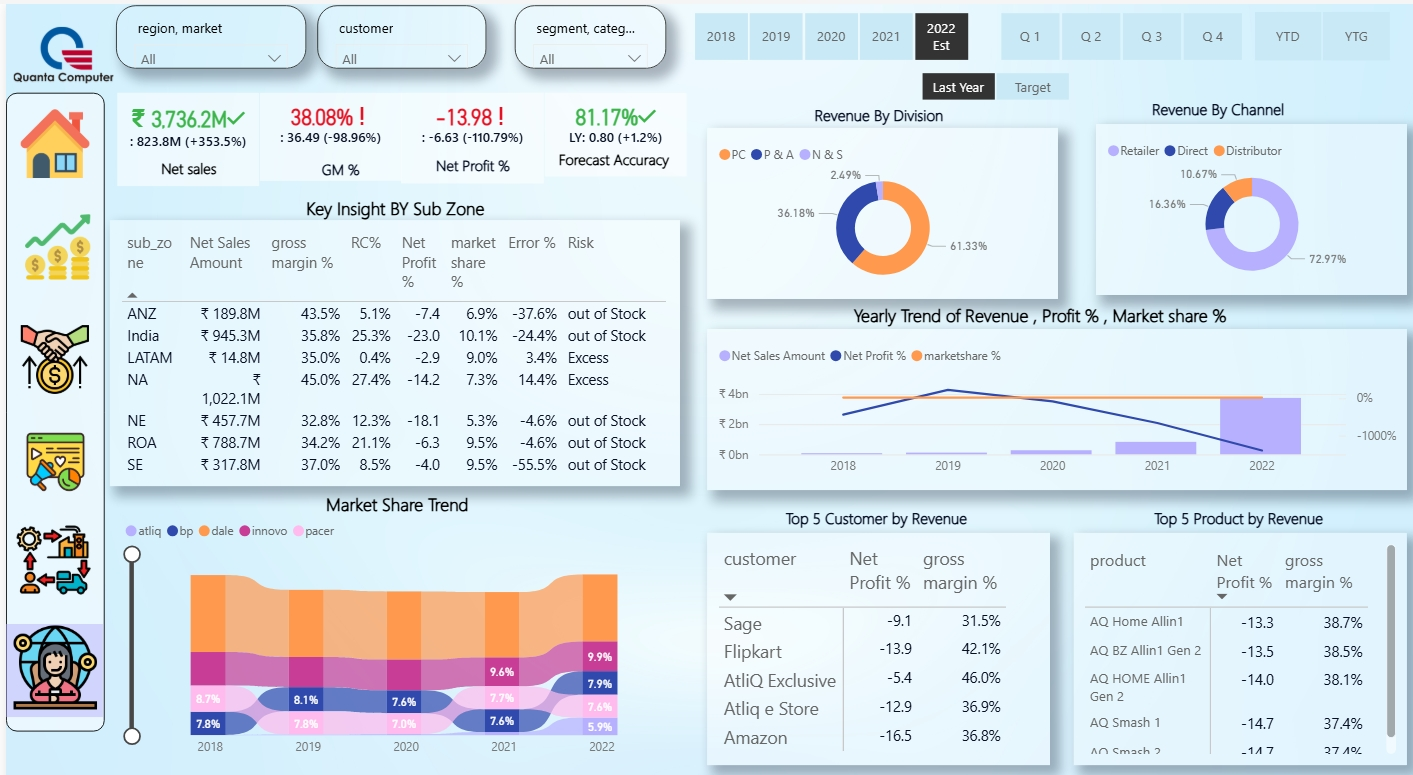

Layout of this report page (visuals, bound fields, positions):
{"tool":"powerbi","page":{"name":"Executive View","canvas":[1280,720],"ordinal":5},"visuals":[{"type":"slicer","fields":{"Values":["Fiscal_year.Est Fy"]},"box":[599.6,1.2,298,56.7],"z":0},{"type":"slicer","fields":{"Values":["dim_date.Quater"]},"box":[877.1,1.2,269,56.7],"z":1000},{"type":"slicer","fields":{"Values":["dim_date.ytd_ytg"]},"box":[1107.5,0,172.5,57.9],"z":2000},{"type":"textbox","box":[640.1,267,588.9,41.7],"z":3000},{"type":"slicer","fields":{"Values":["dim_market.region","dim_customer.market"]},"box":[100.1,1.2,172.5,57.9],"z":4000},{"type":"slicer","fields":{"Values":["dim_product.segment","dim_product.category","dim_product.product"]},"box":[462.1,1.2,137.5,57.9],"z":5000},{"type":"slicer","fields":{"Values":["dim_customer.customer"]},"box":[282.3,1.2,153.2,57.9],"z":6000},{"type":"kpi","fields":{"Indicator":["key Measure.Net Sales Amount"],"TrendLine":["dim_date.Fiscal"],"Goal":["key Measure.Switch Net Sales"]},"box":[101.3,81.1,128.7,84.6],"z":7000},{"type":"textbox","box":[112.1,133.5,107.3,32.2],"z":8000},{"type":"kpi","fields":{"TrendLine":["dim_date.Fiscal"],"Indicator":["key Measure.gross margin %"],"Goal":["key Measure.Switch GM %"]},"box":[230.1,81.1,128.7,79.9],"z":9000},{"type":"kpi","fields":{"TrendLine":["dim_date.Fiscal"],"Indicator":["key Measure.Net Profit %"],"Goal":["key Measure.Switch NP Target %"]},"box":[358.8,81.1,129.9,82.2],"z":10000},{"type":"textbox","box":[239.6,134.7,128.7,28.6],"z":11000},{"type":"textbox","box":[364.8,131.1,119.2,37],"z":12000},{"type":"image","box":[2.4,0,100.1,92.9],"z":13000},{"type":"shape","box":[0,80.8,89.3,580.3],"z":14000},{"type":"image","box":[1.2,285.9,86.9,73.6],"z":15000},{"type":"image","box":[4.8,185.8,84.5,68.8],"z":16000},{"type":"image","box":[4.8,90.5,79.6,72.4],"z":17000},{"type":"image","box":[4.8,380,80.8,71.2],"z":18000},{"type":"image","box":[0,466.9,86.9,77.2],"z":19000},{"type":"shape","box":[0,562.6,88.2,84.6],"z":20000},{"type":"image","box":[0,558.6,89.3,88.1],"z":21000},{"type":"slicer","fields":{"Values":["Toggle Table.Option"]},"box":[805.8,56,183.6,37],"z":22000},{"type":"kpi","fields":{"TrendLine":["dim_date.Fiscal"],"Indicator":["key Measure.Forecast Accuracy"],"Goal":["key Measure.Forecast Accu Last Year"]},"box":[488.7,81.1,128.7,76.3],"z":23000},{"type":"textbox","box":[484,126.4,140.7,32.2],"z":24000},{"type":"donutChart","fields":{"Y":["key Measure.Net Sales Amount"],"Category":["dim_product.division"]},"box":[636.5,112.1,318.3,155],"z":25000},{"type":"donutChart","fields":{"Y":["key Measure.Net Sales Amount"],"Category":["dim_customer.channel"]},"box":[989.4,108.5,282.5,155],"z":26000},{"type":"textbox","box":[970.3,451.8,301.6,38.1],"z":27000},{"type":"textbox","box":[954.8,81.1,292,38.1],"z":28000},{"type":"tableEx","fields":{"Values":["subzone.sub_zone","key Measure.Net Sales Amount","key Measure.gross margin %","key Measure.RC%","key Measure.Net Profit %","key Measure.marketshare %","key Measure.Error %","key Measure.Risk"]},"box":[94.2,196.7,517.3,242],"z":29000},{"type":"lineClusteredColumnComboChart","fields":{"Y":["key Measure.Net Sales Amount"],"Category":["dim_date.Fiscal"],"Y2":["key Measure.Net Profit %","key Measure.marketshare %"]},"box":[636.5,295.6,635.4,146.6],"z":30000},{"type":"textbox","box":[101.8,438.6,497.4,42],"z":31000},{"type":"ribbonChart","fields":{"Category":["marketshare.fy"],"Y":["key Measure.marketshare %"],"Series":["marketshare.Attribute"]},"box":[102.8,459.6,496.3,231.9],"z":32000},{"type":"pivotTable","fields":{"Rows":["dim_customer.customer"],"Values":["key Measure.Net Profit %","key Measure.gross margin %"]},"box":[636.5,480.4,311.1,211],"z":33000},{"type":"pivotTable","fields":{"Rows":["dim_product.product"],"Values":["key Measure.Net Profit %","key Measure.gross margin %"]},"box":[969.1,480.4,302.8,211],"z":34000},{"type":"textbox","box":[654.4,85.8,275.4,38.1],"z":35000},{"type":"textbox","box":[636.5,451.8,311.1,38.1],"z":36000},{"type":"textbox","box":[94.4,168.9,514.2,42],"z":37000}]}

Visuals, with their boxes in screenshot pixels (x1, y1, x2, y2), scaled from the page's 1280x720 canvas onto the 1413x775 screenshot:
slicer - Fiscal_year.Est Fy: [x1=662, y1=1, x2=991, y2=62]
slicer - dim_date.Quater: [x1=968, y1=1, x2=1265, y2=62]
slicer - dim_date.ytd_ytg: [x1=1223, y1=0, x2=1412, y2=62]
textbox: [x1=707, y1=287, x2=1357, y2=332]
slicer - dim_market.region x dim_customer.market: [x1=111, y1=1, x2=301, y2=64]
slicer - dim_product.segment x dim_product.category: [x1=510, y1=1, x2=662, y2=64]
slicer - dim_customer.customer: [x1=312, y1=1, x2=481, y2=64]
kpi - key Measure.Net Sales Amount x dim_date.Fiscal: [x1=112, y1=87, x2=254, y2=178]
textbox: [x1=124, y1=144, x2=242, y2=178]
kpi - dim_date.Fiscal x key Measure.gross margin %: [x1=254, y1=87, x2=396, y2=173]
kpi - dim_date.Fiscal x key Measure.Net Profit %: [x1=396, y1=87, x2=539, y2=176]
textbox: [x1=264, y1=145, x2=407, y2=176]
textbox: [x1=403, y1=141, x2=534, y2=181]
image: [x1=3, y1=0, x2=113, y2=100]
shape: [x1=0, y1=87, x2=99, y2=712]
image: [x1=1, y1=308, x2=97, y2=387]
image: [x1=5, y1=200, x2=99, y2=274]
image: [x1=5, y1=97, x2=93, y2=175]
image: [x1=5, y1=409, x2=94, y2=486]
image: [x1=0, y1=503, x2=96, y2=586]
shape: [x1=0, y1=606, x2=97, y2=697]
image: [x1=0, y1=601, x2=99, y2=696]
slicer - Toggle Table.Option: [x1=890, y1=60, x2=1092, y2=100]
kpi - dim_date.Fiscal x key Measure.Forecast Accuracy: [x1=539, y1=87, x2=682, y2=169]
textbox: [x1=534, y1=136, x2=690, y2=171]
donutChart - key Measure.Net Sales Amount x dim_product.division: [x1=703, y1=121, x2=1054, y2=288]
donutChart - key Measure.Net Sales Amount x dim_customer.channel: [x1=1092, y1=117, x2=1404, y2=284]
textbox: [x1=1071, y1=486, x2=1404, y2=527]
textbox: [x1=1054, y1=87, x2=1376, y2=128]
tableEx - subzone.sub_zone x key Measure.Net Sales Amount: [x1=104, y1=212, x2=675, y2=472]
lineClusteredColumnComboChart - key Measure.Net Sales Amount x dim_date.Fiscal: [x1=703, y1=318, x2=1404, y2=476]
textbox: [x1=112, y1=472, x2=661, y2=517]
ribbonChart - marketshare.fy x key Measure.marketshare %: [x1=113, y1=495, x2=661, y2=744]
pivotTable - dim_customer.customer x key Measure.Net Profit %: [x1=703, y1=517, x2=1046, y2=744]
pivotTable - dim_product.product x key Measure.Net Profit %: [x1=1070, y1=517, x2=1404, y2=744]
textbox: [x1=722, y1=92, x2=1026, y2=133]
textbox: [x1=703, y1=486, x2=1046, y2=527]
textbox: [x1=104, y1=182, x2=672, y2=227]
